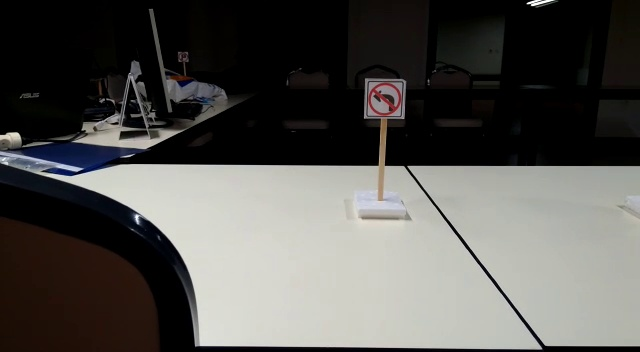sola_donulmez: (365, 83, 406, 118)
